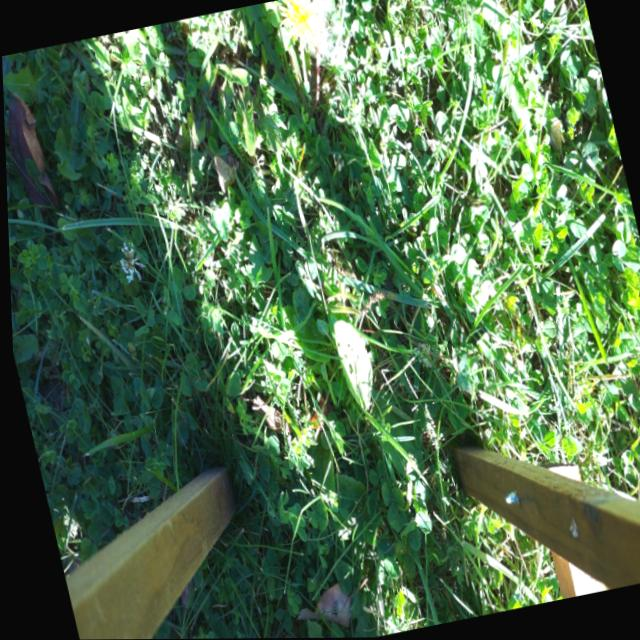base: (298, 96, 324, 131)
